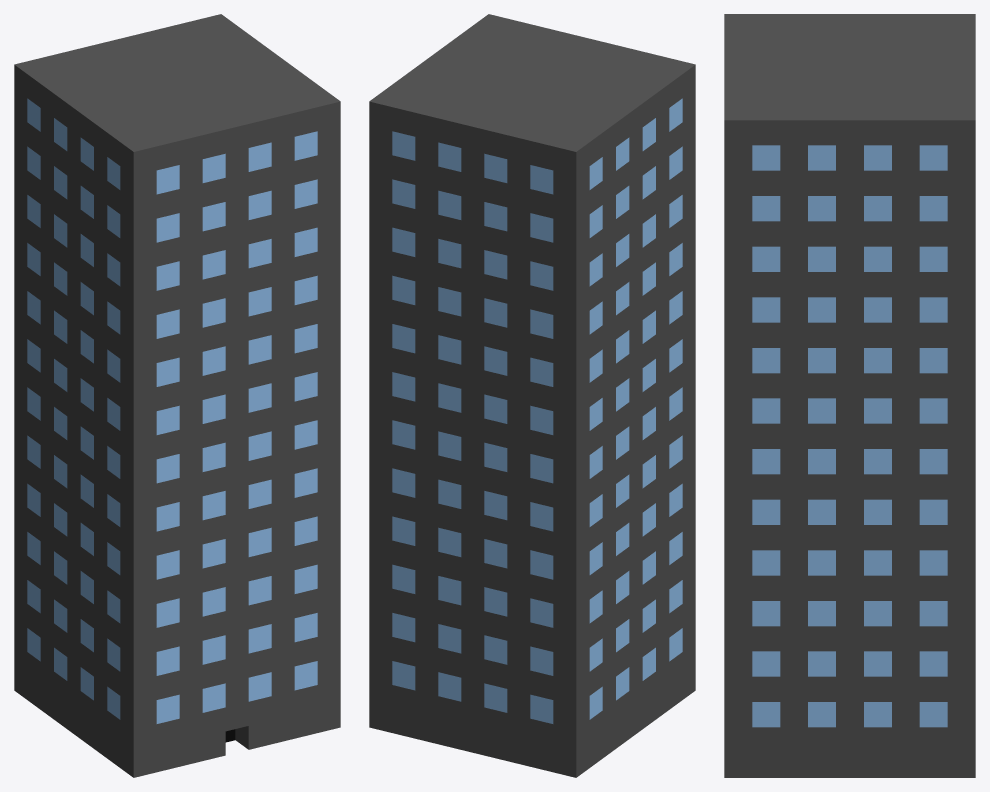
The model's file is bld1.fbx.
3 views of the same model, side by side, from view 1: azimuth 30°, elevation 25°; view 2: azimuth 150°, elevation 25°; view 3: azimuth 270°, elevation 25° (orthographic). The views are drawn at different scales.
Parts seen in each view (by area): view 1: Cube.001; view 2: Cube.001; view 3: Cube.001.
Part boxes in pixels (<box>): Cube.001: <box>14,14,340,777</box>; Cube.001: <box>369,14,695,777</box>; Cube.001: <box>724,14,975,777</box>.
Bounding box in the file's own units: 900 × 2600 × 900.
